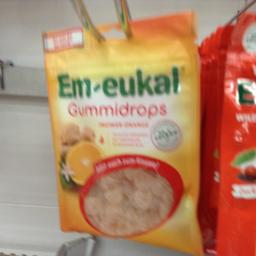candy: (40, 28, 197, 246)
